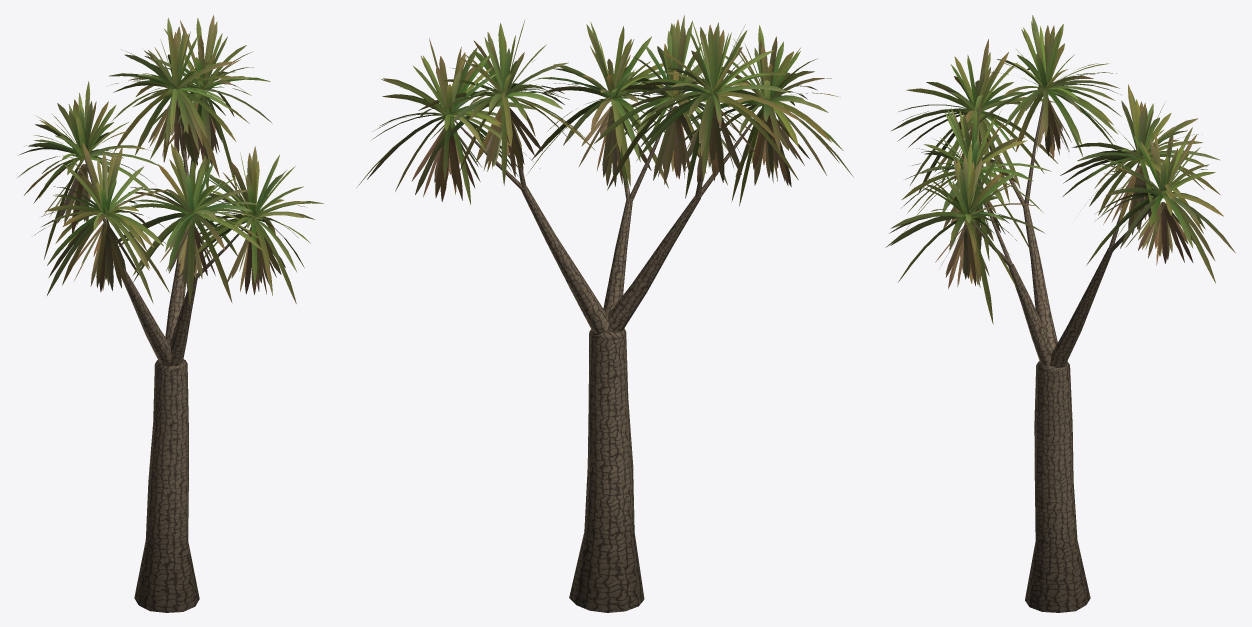
File: cabbage-tree.glb
3 renders of one model, left to right at view 1: azimuth 30°, elevation 25°; view 2: azimuth 150°, elevation 25°; view 3: azimuth 270°, elevation 25°, orthographic. The views are drawn at different scales.
Parts seen in each view (by area): view 1: cabbage-tree; view 2: cabbage-tree; view 3: cabbage-tree.
Part boxes in pixels (x1=…): cabbage-tree: x1=17, y1=15, x2=323, y2=612; cabbage-tree: x1=356, y1=15, x2=853, y2=612; cabbage-tree: x1=885, y1=15, x2=1235, y2=612.
Size of the model in its own units: 4.44 by 7.06 by 4.22.
Materials: 2 (2 with a texture image).
